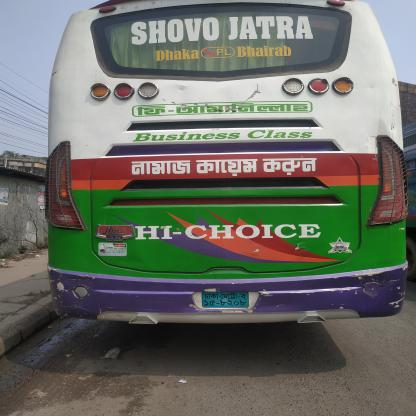license_plate: (200, 291, 250, 308)
